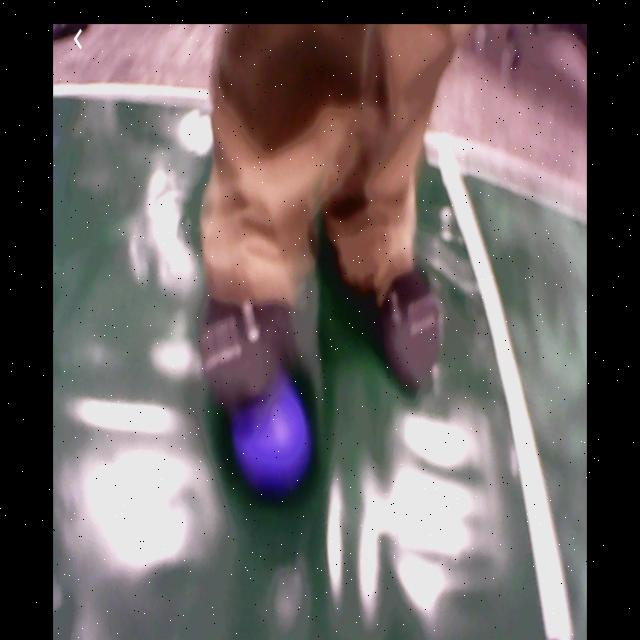ball: (232, 383, 308, 491)
